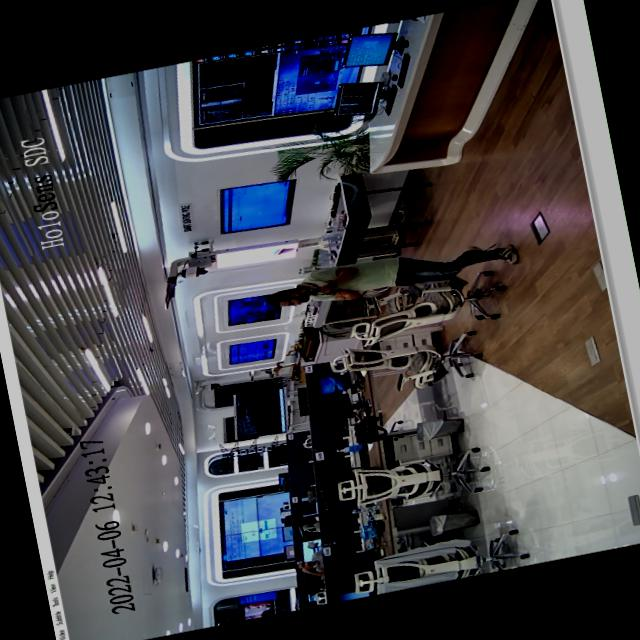long weapon: (296, 273, 360, 307)
